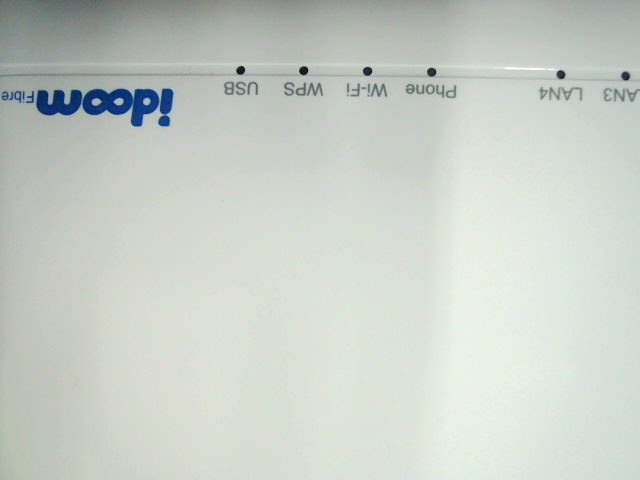BB_idoom: (2, 79, 176, 129)
